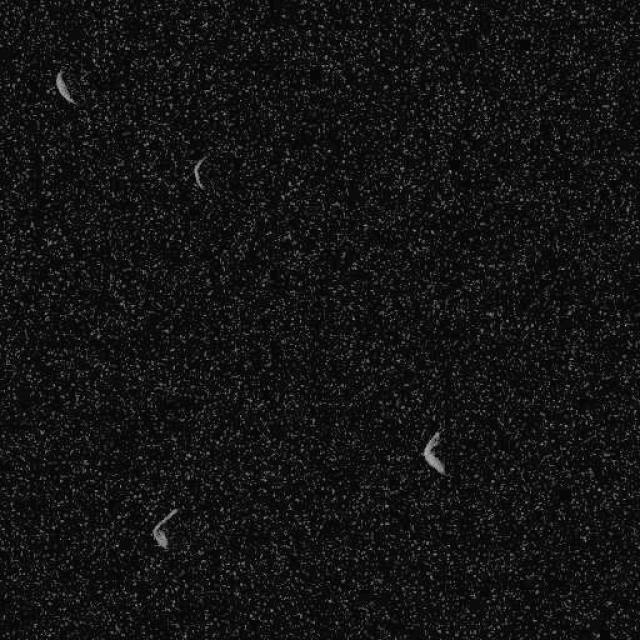D2: (150, 506, 179, 549), (422, 430, 448, 476), (54, 69, 78, 106), (191, 154, 209, 190)
